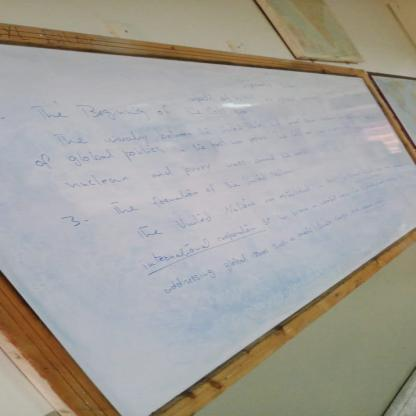Handwritten text: (135, 187, 344, 274), (152, 208, 341, 303), (129, 176, 319, 245), (28, 123, 275, 175), (100, 169, 246, 221), (45, 115, 252, 150), (23, 98, 234, 125), (56, 160, 216, 194)
